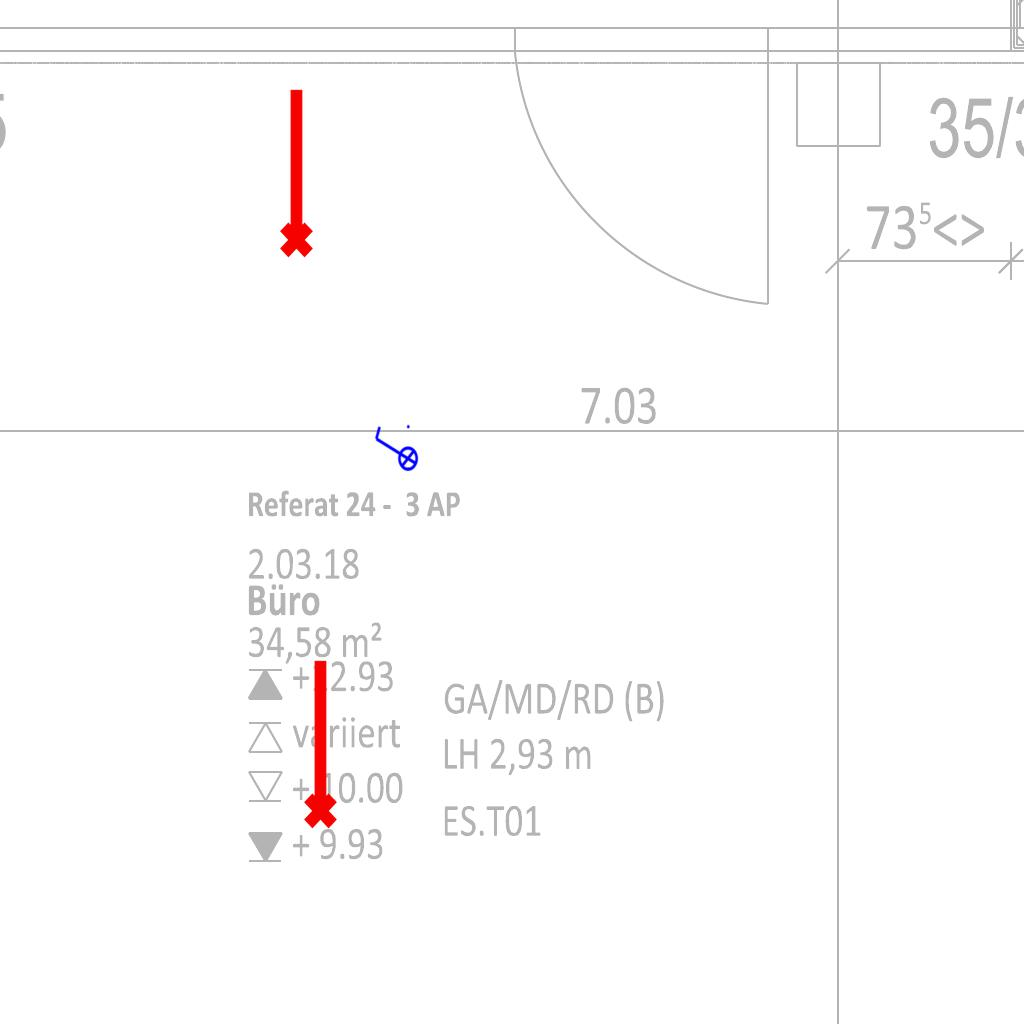ASR_Ansaugoeffnung: (271, 84, 317, 260), (295, 655, 341, 831)
Ausschalter_beleuchtet: (371, 422, 419, 478)
